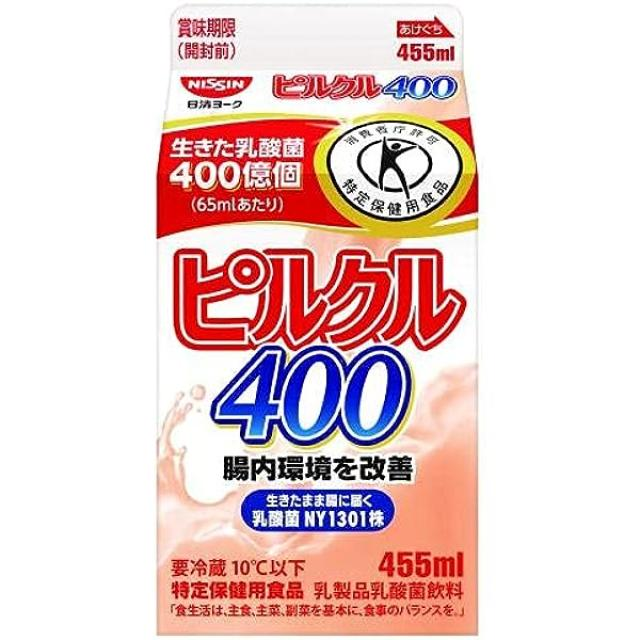Aluminium Foil: (157, 0, 478, 640)
